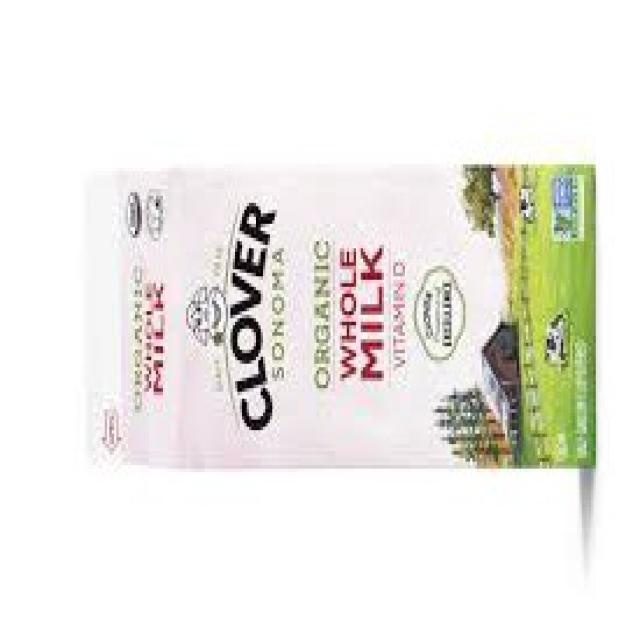non_white_jug: (81, 160, 598, 473)
